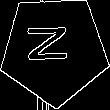N_E: (29, 29, 79, 71)
